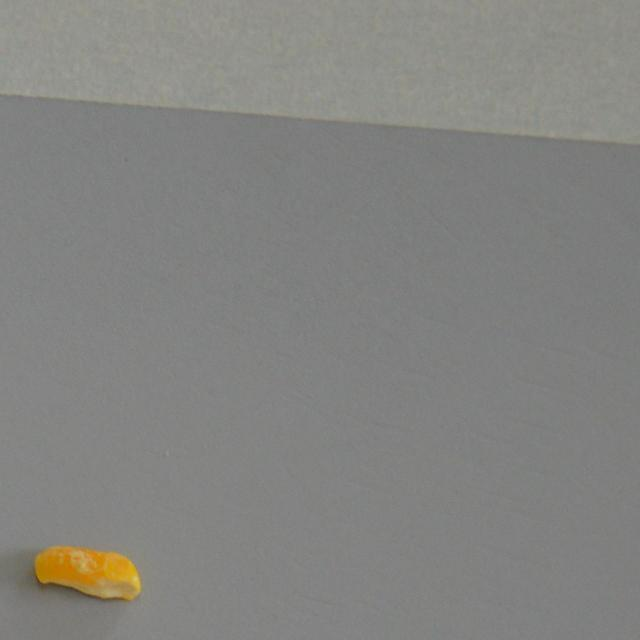pelicula: (32, 542, 143, 606)
